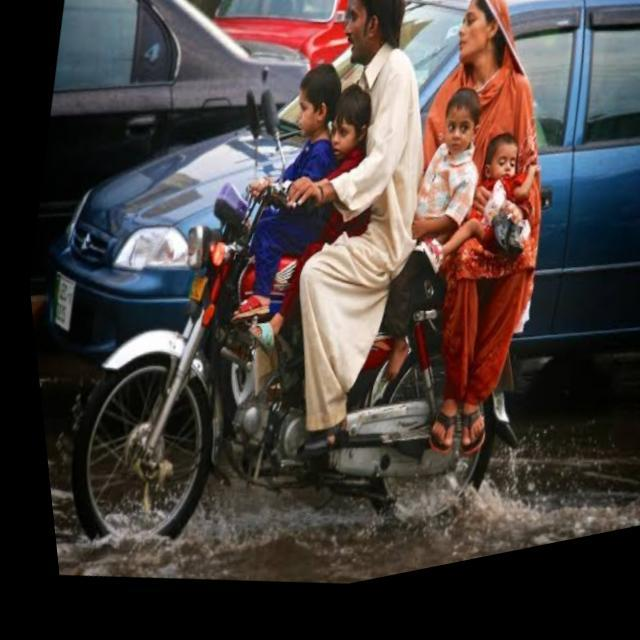Nonhelmet: (323, 79, 386, 163), (336, 0, 409, 71), (447, 0, 513, 70), (292, 59, 338, 138), (443, 84, 485, 158), (476, 129, 529, 184)
